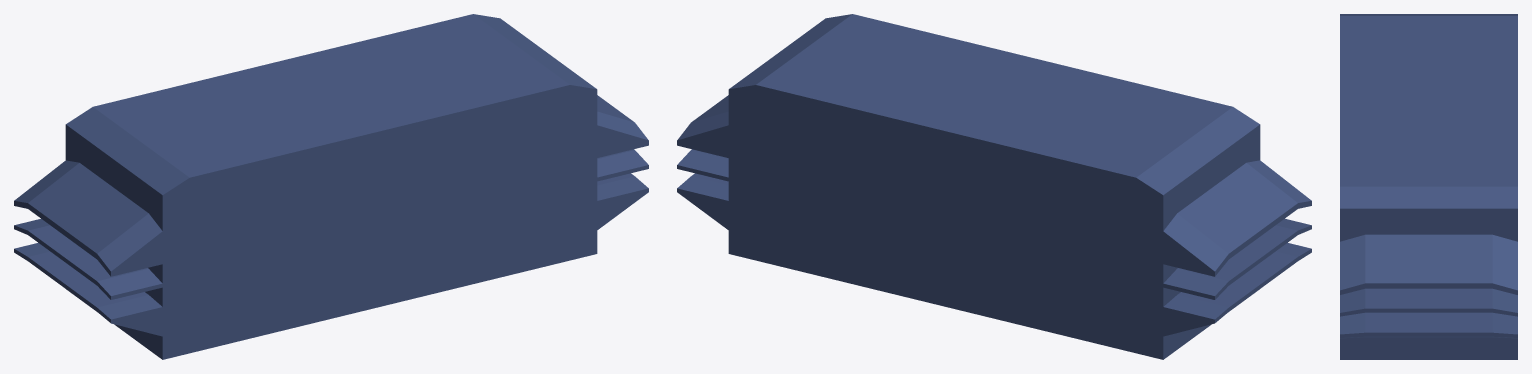
The model's file is movingpf_baked.fbx.
The picture shows the model from 3 angles, left to right: view 1: azimuth 30°, elevation 25°; view 2: azimuth 150°, elevation 25°; view 3: azimuth 270°, elevation 25°; orthographic projection. The views are drawn at different scales.
Parts seen in each view (by area): view 1: HallFloorPlatform; view 2: HallFloorPlatform; view 3: HallFloorPlatform.
Part boxes in pixels (bbox=[...]): HallFloorPlatform: bbox=[14, 14, 648, 359]; HallFloorPlatform: bbox=[677, 14, 1311, 359]; HallFloorPlatform: bbox=[1340, 14, 1517, 359].
Bounding box in the file's own units: 641 × 200 × 200.
